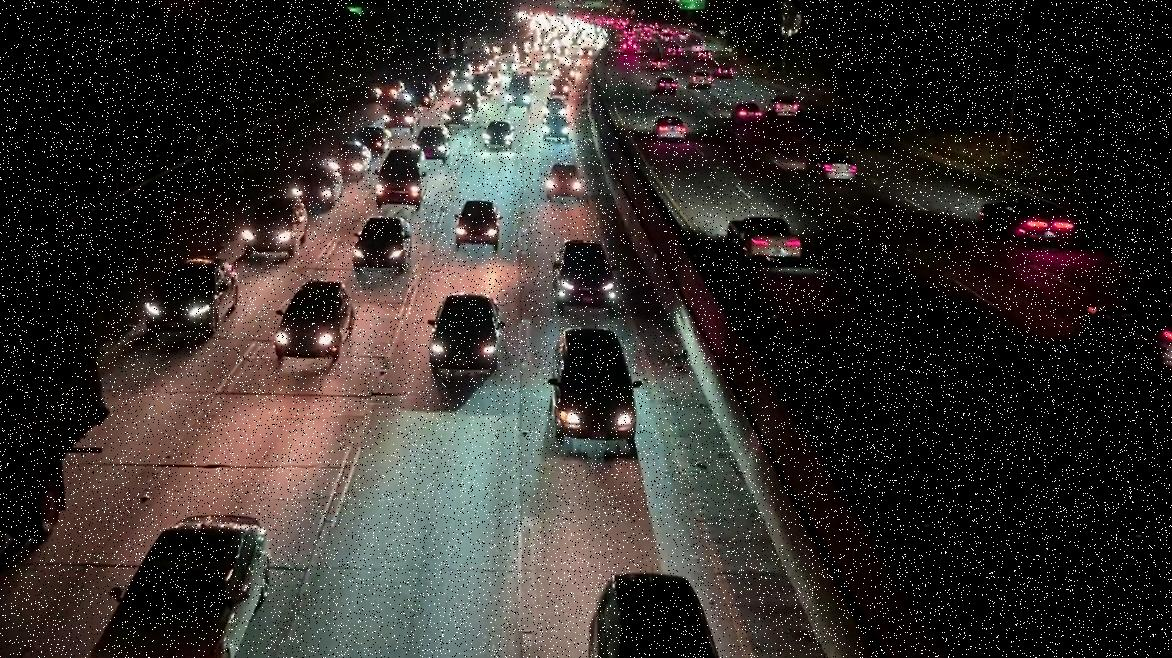car: (80, 505, 280, 658), (582, 571, 738, 658), (548, 325, 634, 453), (135, 257, 245, 337), (276, 280, 354, 362), (428, 293, 502, 377), (553, 243, 619, 315), (241, 196, 307, 257), (725, 218, 804, 264), (377, 148, 431, 211), (353, 215, 409, 271), (999, 207, 1077, 247), (454, 199, 504, 247), (544, 162, 584, 200), (810, 157, 857, 181), (483, 122, 516, 146), (653, 116, 687, 139), (730, 102, 764, 122), (770, 98, 798, 118), (654, 78, 678, 95), (645, 55, 669, 71), (687, 72, 712, 87)
